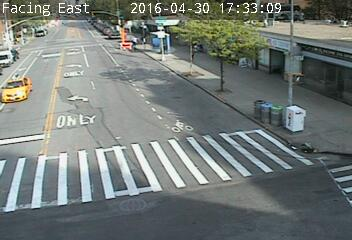neg: (36, 76, 81, 137), (242, 86, 286, 145), (106, 101, 140, 147), (49, 160, 82, 204), (300, 96, 329, 134), (204, 186, 231, 222), (118, 39, 138, 66), (181, 80, 200, 106)
